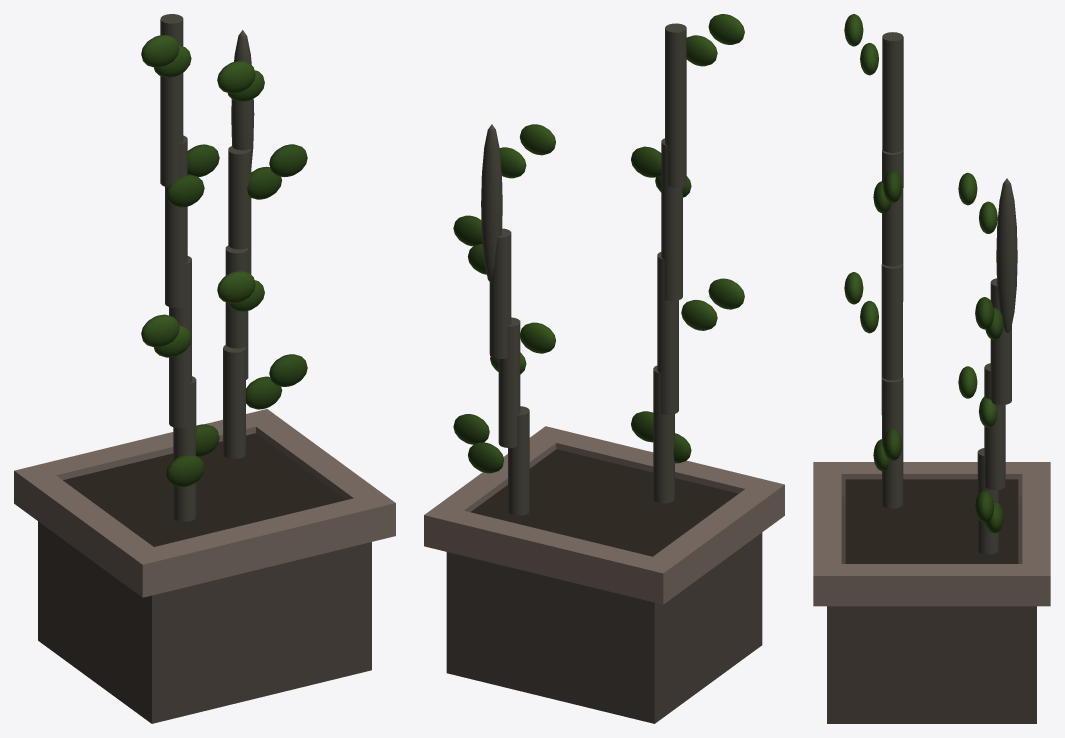
File: CMU3DPottedPlant9.glb
The picture shows the model from 3 angles, left to right: view 1: azimuth 30°, elevation 25°; view 2: azimuth 150°, elevation 25°; view 3: azimuth 270°, elevation 25°; orthographic projection. The views are drawn at different scales.
Visible parts, largest first — view 1: square pot base, branch (×8), recessed soil, side rim (×2), front and back rim (×2), tapered leaf blade (×14); view 2: square pot base, branch (×8), recessed soil, front and back rim (×2), side rim (×2), tapered leaf blade (×12); view 3: square pot base, branch (×8), side rim (×2), recessed soil, tapered leaf blade (×12), front and back rim (×2).
Boxes of the visible parts, x1,y1,x2,y2 form: square pot base: (38, 521, 371, 723); branch (×8): (160, 14, 254, 521); recessed soil: (63, 433, 346, 546); side rim (×2): (14, 409, 395, 597); front and back rim (×2): (41, 419, 369, 591); tapered leaf blade (×14): (141, 35, 307, 487); square pot base: (446, 532, 762, 723); branch (×8): (481, 23, 686, 515); recessed soil: (470, 449, 738, 556); front and back rim (×2): (449, 432, 759, 598); side rim (×2): (424, 426, 784, 604); tapered leaf blade (×12): (453, 14, 744, 473); square pot base: (827, 496, 1036, 723); branch (×8): (881, 32, 1017, 554); side rim (×2): (813, 462, 1050, 606); recessed soil: (845, 479, 1018, 563); tapered leaf blade (×12): (844, 14, 997, 522); front and back rim (×2): (813, 474, 1050, 563).
Size of the model in its own units: 0.4106 by 1.02 by 0.3555.
